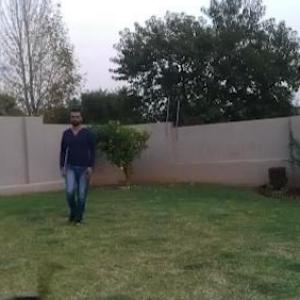follow: (60, 110, 96, 224)
